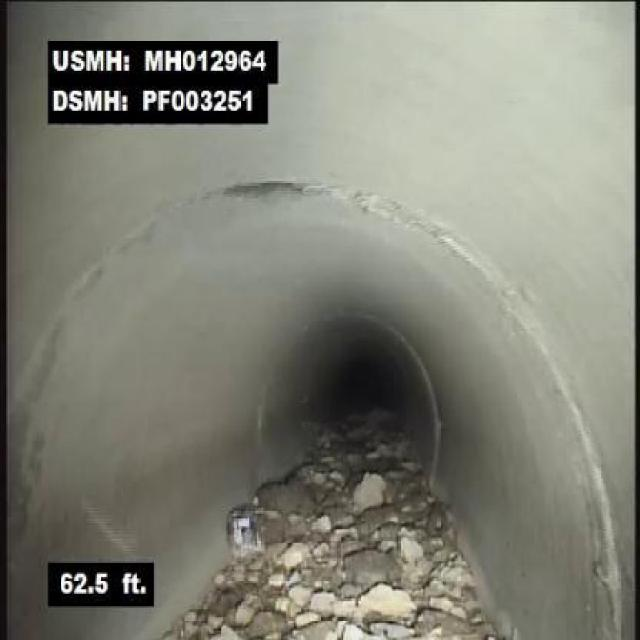Obstacle: (331, 466, 540, 639), (163, 430, 328, 638)
